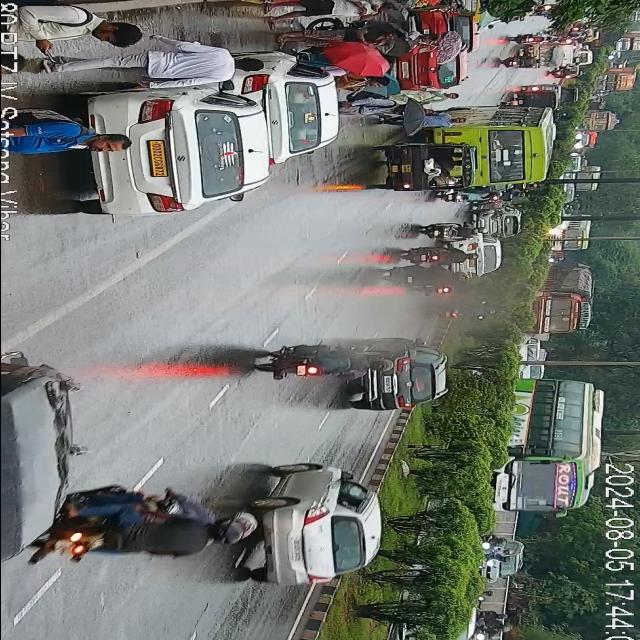2-wheelers: (32, 488, 264, 574), (252, 340, 346, 384), (426, 297, 508, 337), (374, 270, 468, 298), (344, 96, 408, 128), (423, 218, 479, 246), (404, 245, 470, 268), (439, 187, 502, 207), (419, 106, 464, 132), (502, 51, 538, 73), (474, 621, 512, 640), (512, 30, 548, 46), (474, 588, 492, 608), (478, 535, 506, 547), (484, 553, 508, 565), (480, 612, 508, 622), (488, 546, 514, 554)
auto: (0, 355, 74, 569), (376, 142, 466, 198), (510, 86, 558, 109)
bus: (492, 376, 606, 522), (405, 110, 559, 196)
car: (82, 90, 267, 215), (250, 466, 375, 588), (245, 60, 336, 154), (350, 342, 439, 416), (399, 48, 466, 92), (422, 7, 486, 44), (483, 540, 526, 581), (475, 202, 521, 240), (464, 230, 502, 274)
pedestrian: (5, 2, 143, 70), (6, 109, 124, 162), (136, 42, 257, 80), (271, 0, 398, 32), (358, 109, 451, 133), (340, 70, 382, 94), (404, 87, 463, 103), (0, 41, 21, 85)
truck: (533, 264, 595, 338), (524, 46, 556, 68)
